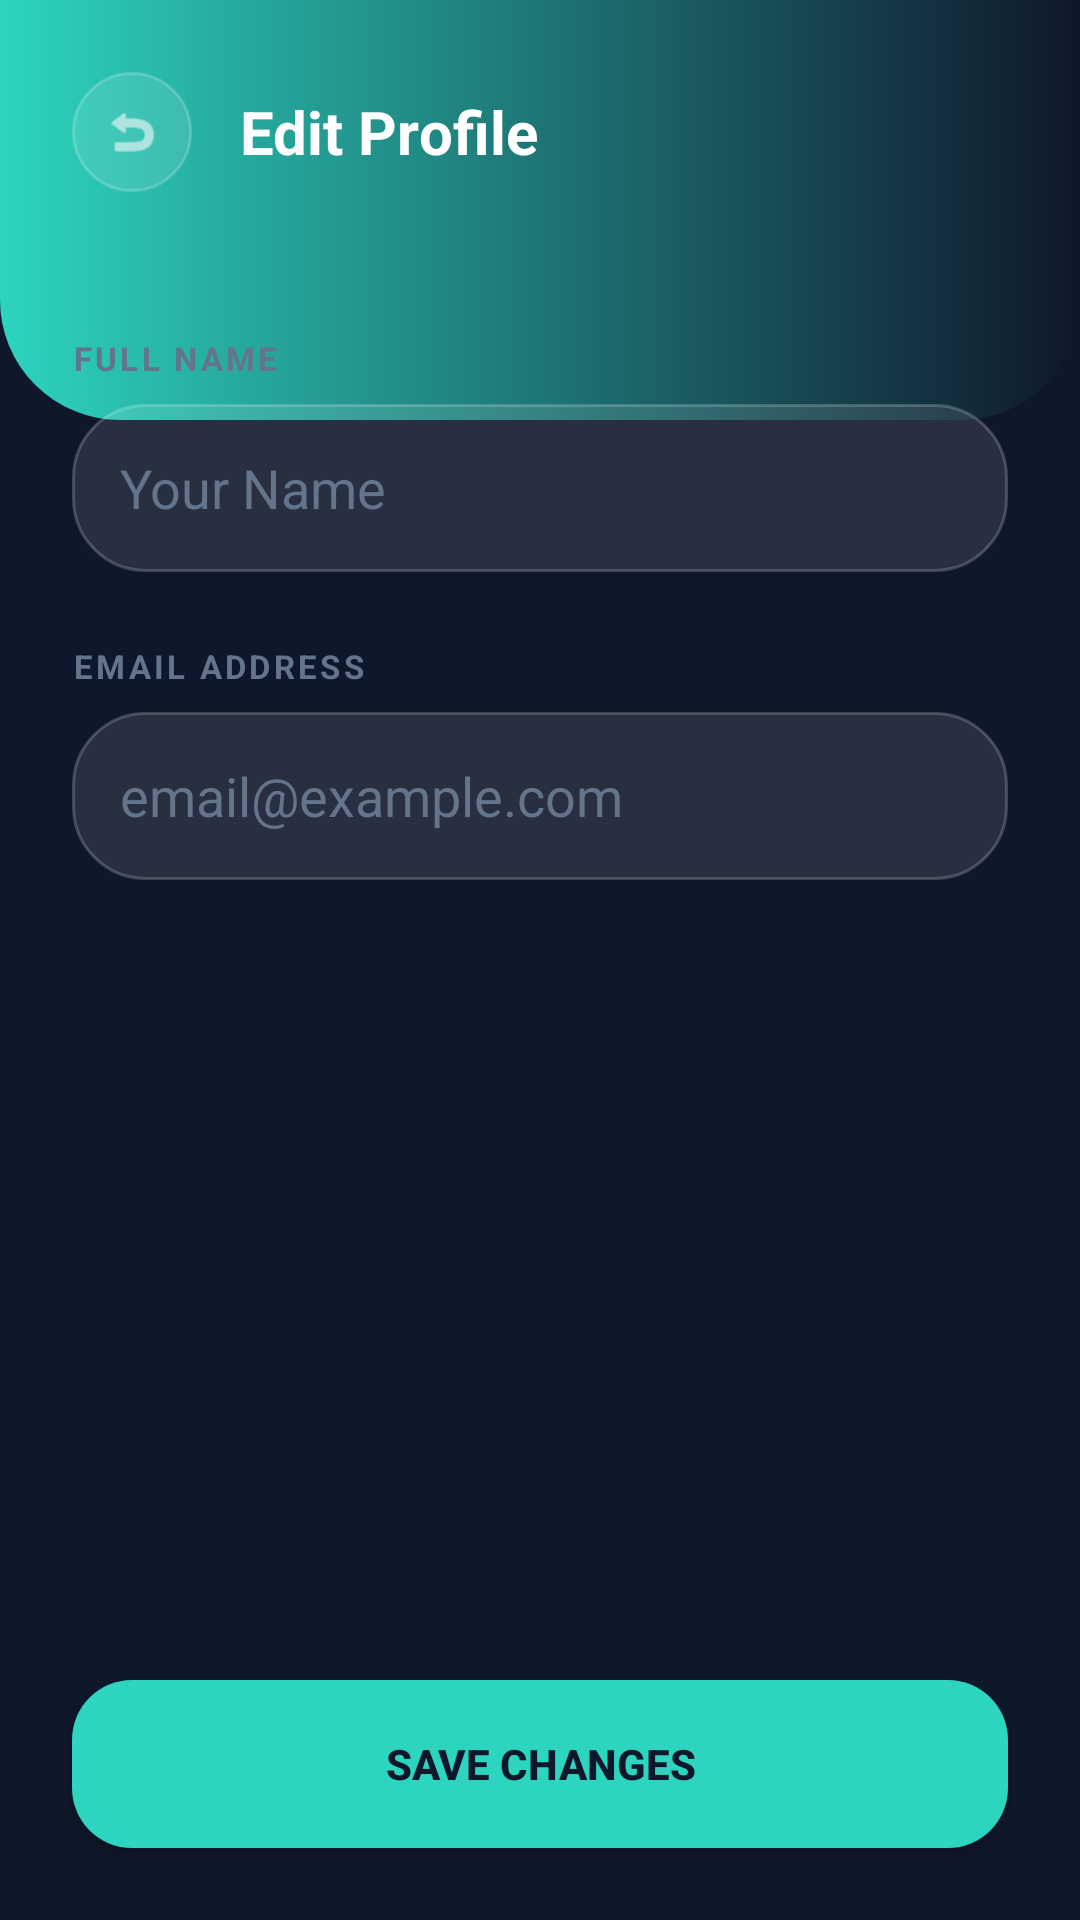

Icons on this 1080px×1920px Android screen, each with the point to tap as [x,y]:
revert: [132,132]
